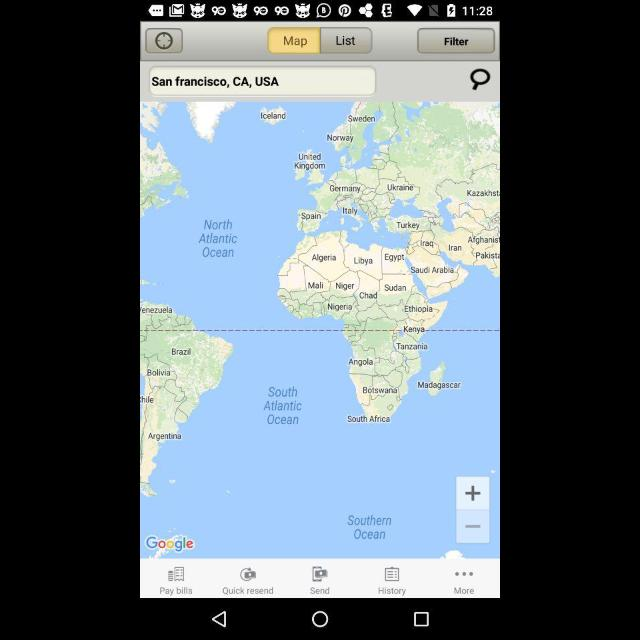icon: (470, 67, 490, 93), (168, 566, 184, 584), (312, 612, 328, 628), (212, 610, 226, 628), (312, 567, 326, 583), (385, 568, 401, 582), (415, 612, 429, 628), (240, 567, 254, 581), (455, 572, 473, 578)
input: (150, 66, 378, 95)
map: (140, 98, 500, 558)
panel: (140, 598, 500, 638), (140, 559, 500, 597)
switch: (269, 26, 373, 54)
text: (152, 76, 278, 88), (160, 587, 194, 597), (223, 588, 275, 594), (379, 587, 405, 595), (311, 588, 329, 596), (456, 588, 474, 594)
textbutton: (418, 28, 496, 52), (146, 29, 184, 53)
toolbar: (141, 22, 499, 62), (140, 64, 500, 100)
uppertaskbar: (140, 0, 500, 22)
